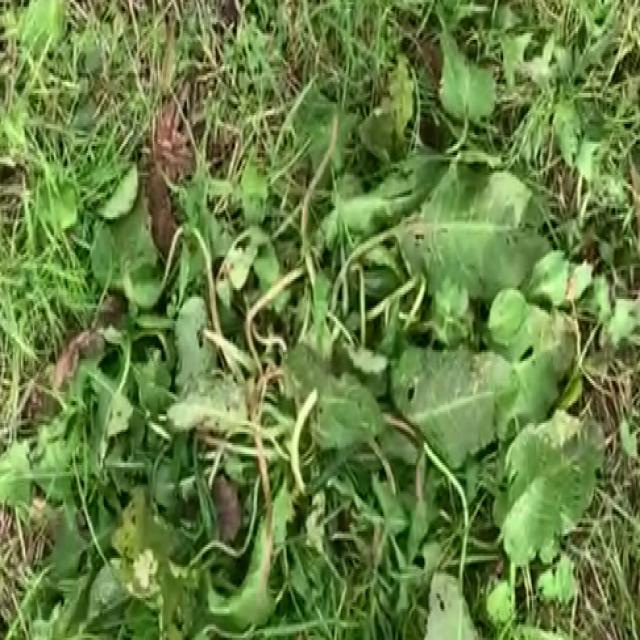organic waste: (39, 68, 603, 640)
